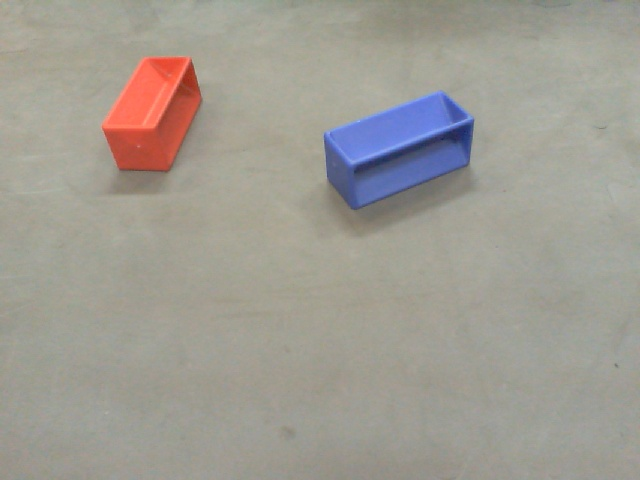BlueSample: (317, 86, 487, 213)
RedSample: (100, 52, 209, 176)
